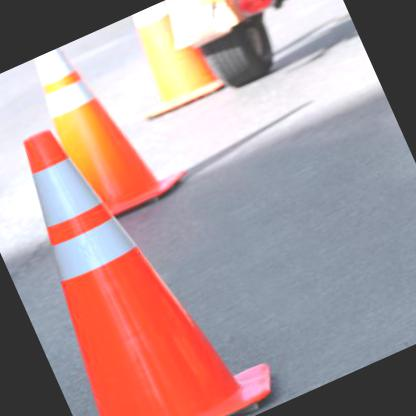cone: (0, 87, 280, 415), (2, 19, 194, 236)
